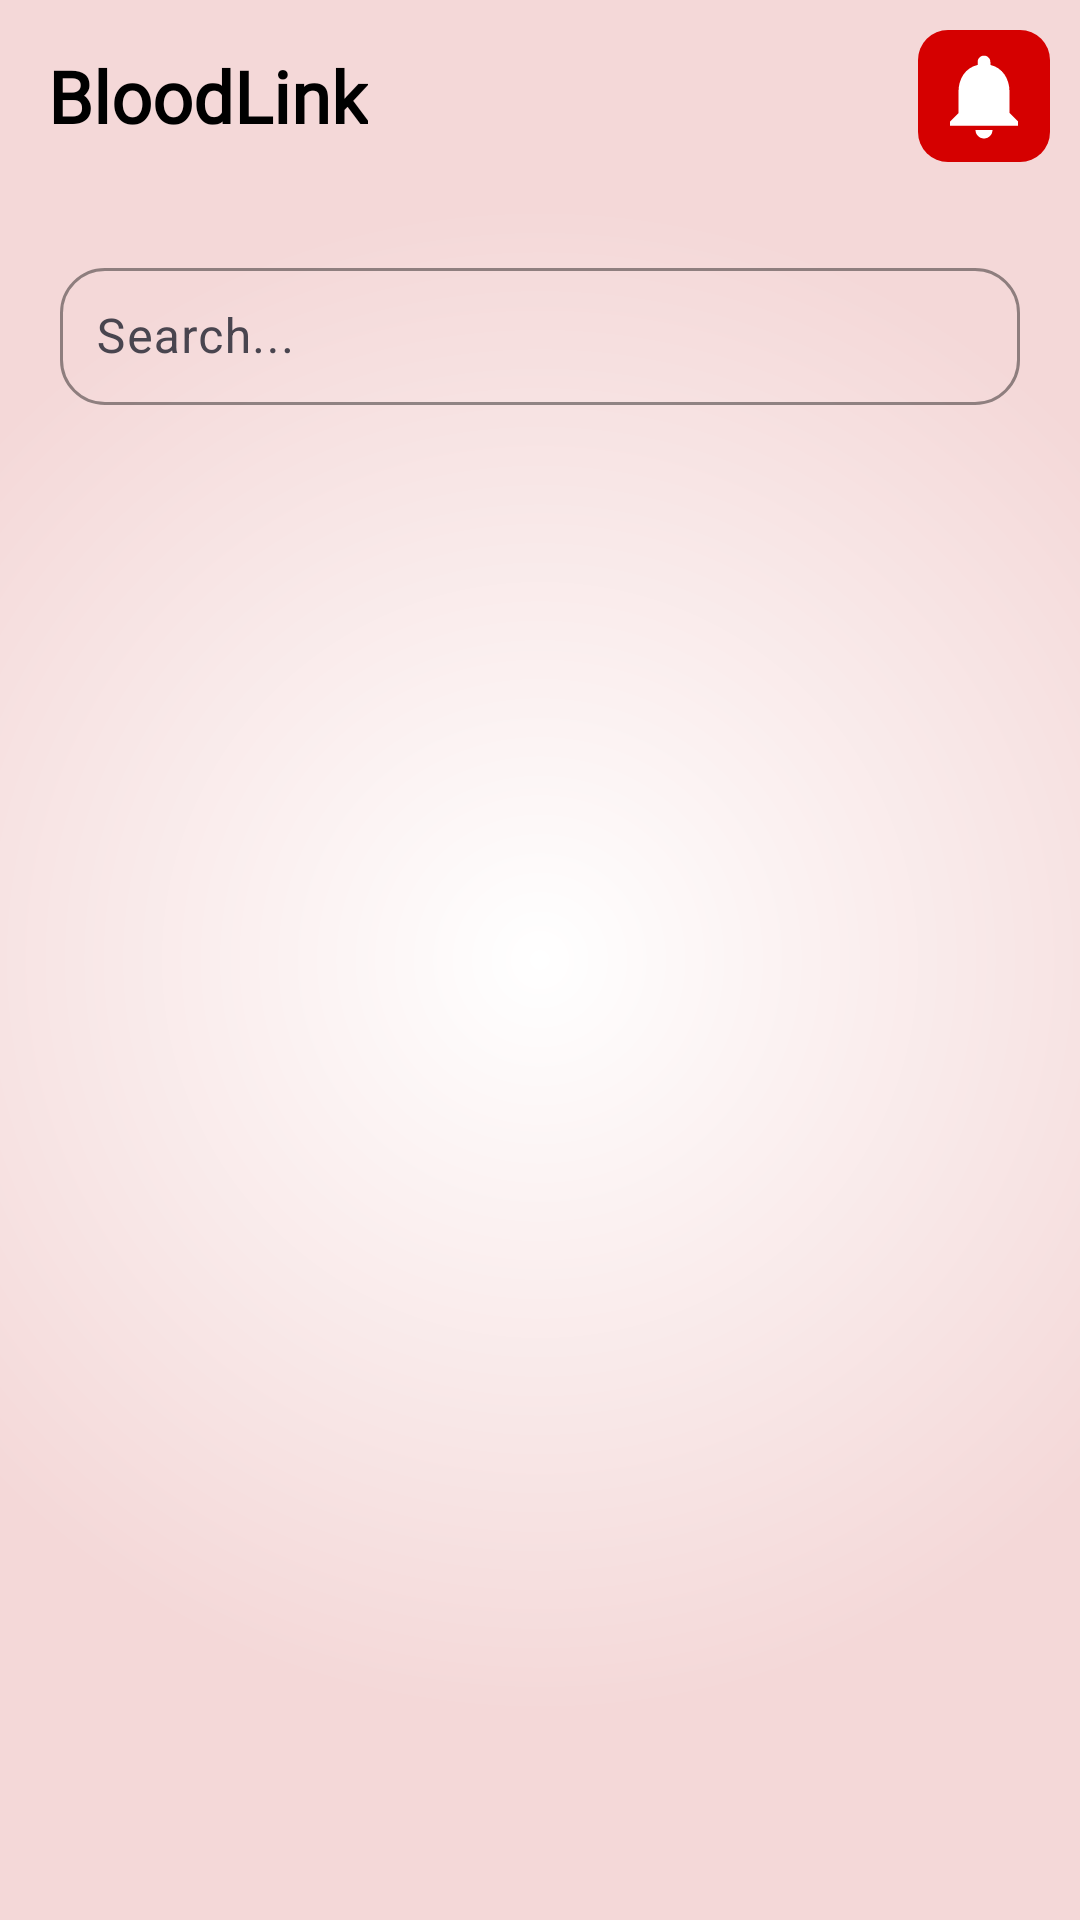

Point at icon controls on the screen. Image size 1080px×1920px, points as (x=x, y=y).
Notification Button Main Screen: (x=984, y=96)
